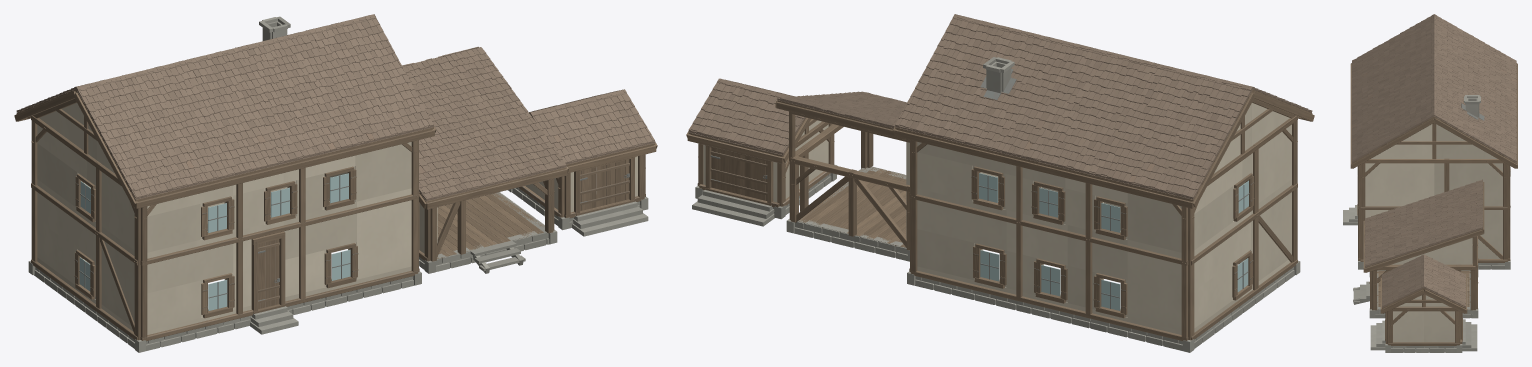
File: floor_visibility_demo.glb
The picture shows the model from 3 angles, left to right: view 1: azimuth 30°, elevation 25°; view 2: azimuth 150°, elevation 25°; view 3: azimuth 270°, elevation 25°; orthographic projection. The views are drawn at different scales.
Parts seen in each view (by area): view 1: world_lowmark.lowmark_main_hall.facade_render_skin::floor:lo (×3), world_lowmark.lowmark_main_hall.Split oak shingle courses::c, world_lowmark.lowmark_main_hall.facade_timber::floor:lowmark (×3), world_lowmark.lowmark_service_wing.Split oak shingle courses, world_lowmark.lowmark_main_hall.Seasoned shingle cohorts::co, world_lowmark.lowmark_main_hall.Exposed shingle butts::cover, world_lowmark.lowmark_household_store.Split oak shingle cour, world_lowmark.lowmark_service_wing.lowmark_working_range_flo, world_lowmark.lowmark_main_hall.Roof edge fascia::covering, world_lowmark.lowmark_main_hall.facade_stone::floor:lowmark_, world_lowmark.lowmark_main_hall.facade_windows::floor:lowmar (×2), world_lowmark.lowmark_service_wing.Seasoned shingle cohorts: (+19 smaller); view 2: world_lowmark.lowmark_main_hall.facade_render_skin::floor:lo (×3), world_lowmark.lowmark_main_hall.Split oak shingle courses::c, world_lowmark.lowmark_main_hall.facade_timber::floor:lowmark (×3), world_lowmark.lowmark_main_hall.Seasoned shingle cohorts::co, world_lowmark.lowmark_main_hall.Exposed shingle butts::cover, world_lowmark.lowmark_service_wing.facade_timber::floor:lowm (×2), world_lowmark.lowmark_household_store.Split oak shingle cour, world_lowmark.lowmark_main_hall.facade_stone::floor:lowmark_, world_lowmark.lowmark_service_wing.lowmark_working_range_flo, world_lowmark.lowmark_main_hall.facade_windows::floor:lowmar (×2), world_lowmark.lowmark_main_hall.Roof edge fascia::covering, world_lowmark.lowmark_main_hall.facade_shutters::floor:lowma (×2) (+16 smaller); view 3: world_lowmark.lowmark_main_hall.Split oak shingle courses::c, world_lowmark.lowmark_main_hall.facade_render_skin::floor:lo (×3), world_lowmark.lowmark_service_wing.Split oak shingle courses, world_lowmark.lowmark_main_hall.Seasoned shingle cohorts::co, world_lowmark.lowmark_main_hall.facade_timber::floor:lowmark (×3), world_lowmark.lowmark_main_hall.Exposed shingle butts::cover, world_lowmark.lowmark_household_store.Split oak shingle cour, world_lowmark.lowmark_household_store.facade_render_skin::fl, world_lowmark.lowmark_main_hall.Roof edge fascia::covering, world_lowmark.lowmark_household_store.facade_timber::floor:l, world_lowmark.lowmark_service_wing.Seasoned shingle cohorts:, world_lowmark.lowmark_service_wing.facade_timber::floor:lowm (+18 smaller).
Boxes of the visible parts, x1,y1,x2,y2 form: world_lowmark.lowmark_main_hall.facade_render_skin::floor:lo (×3): (37, 103, 411, 334); world_lowmark.lowmark_main_hall.Split oak shingle courses::c: (16, 14, 433, 199); world_lowmark.lowmark_main_hall.facade_timber::floor:lowmark (×3): (31, 99, 419, 341); world_lowmark.lowmark_service_wing.Split oak shingle courses: (402, 47, 566, 200); world_lowmark.lowmark_main_hall.Seasoned shingle cohorts::co: (26, 14, 429, 192); world_lowmark.lowmark_main_hall.Exposed shingle butts::cover: (16, 21, 433, 198); world_lowmark.lowmark_household_store.Split oak shingle cour: (529, 89, 655, 163); world_lowmark.lowmark_service_wing.lowmark_working_range_flo: (437, 192, 544, 258); world_lowmark.lowmark_main_hall.Roof edge fascia::covering: (14, 91, 436, 208); world_lowmark.lowmark_main_hall.facade_stone::floor:lowmark_: (34, 267, 414, 350); world_lowmark.lowmark_main_hall.facade_windows::floor:lowmar (×2): (79, 173, 350, 310); world_lowmark.lowmark_service_wing.Seasoned shingle cohorts:: (411, 48, 550, 194); world_lowmark.lowmark_main_hall.facade_render_skin::floor:lo (×3): (917, 103, 1291, 334); world_lowmark.lowmark_main_hall.Split oak shingle courses::c: (895, 19, 1312, 199); world_lowmark.lowmark_main_hall.facade_timber::floor:lowmark (×3): (909, 99, 1297, 341); world_lowmark.lowmark_main_hall.Seasoned shingle cohorts::co: (895, 14, 1304, 198); world_lowmark.lowmark_main_hall.Exposed shingle butts::cover: (899, 15, 1285, 197); world_lowmark.lowmark_service_wing.facade_timber::floor:lowm (×2): (789, 111, 909, 250); world_lowmark.lowmark_household_store.Split oak shingle cour: (688, 78, 804, 154); world_lowmark.lowmark_main_hall.facade_stone::floor:lowmark_: (914, 267, 1294, 350); world_lowmark.lowmark_service_wing.lowmark_working_range_flo: (798, 167, 906, 247); world_lowmark.lowmark_main_hall.facade_windows::floor:lowmar (×2): (979, 173, 1248, 310); world_lowmark.lowmark_main_hall.Roof edge fascia::covering: (892, 91, 1314, 208); world_lowmark.lowmark_main_hall.facade_shutters::floor:lowma (×2): (971, 169, 1254, 314); world_lowmark.lowmark_main_hall.Split oak shingle courses::c: (1352, 14, 1516, 162); world_lowmark.lowmark_main_hall.facade_render_skin::floor:lo (×3): (1365, 124, 1502, 258); world_lowmark.lowmark_service_wing.Split oak shingle courses: (1365, 180, 1482, 266); world_lowmark.lowmark_main_hall.Seasoned shingle cohorts::co: (1352, 14, 1516, 161); world_lowmark.lowmark_main_hall.facade_timber::floor:lowmark (×3): (1357, 118, 1510, 262); world_lowmark.lowmark_main_hall.Exposed shingle butts::cover: (1352, 17, 1516, 162); world_lowmark.lowmark_household_store.Split oak shingle cour: (1382, 254, 1465, 307); world_lowmark.lowmark_household_store.facade_render_skin::fl: (1393, 303, 1454, 342); world_lowmark.lowmark_main_hall.Roof edge fascia::covering: (1350, 63, 1517, 168); world_lowmark.lowmark_household_store.facade_timber::floor:l: (1385, 303, 1462, 345); world_lowmark.lowmark_service_wing.Seasoned shingle cohorts:: (1365, 187, 1482, 259); world_lowmark.lowmark_service_wing.facade_timber::floor:lowm: (1370, 236, 1477, 310).
Bounding box in the file's own units: 20.72 × 8.39 × 8.33.
Materials: 11 (10 with a texture image).
